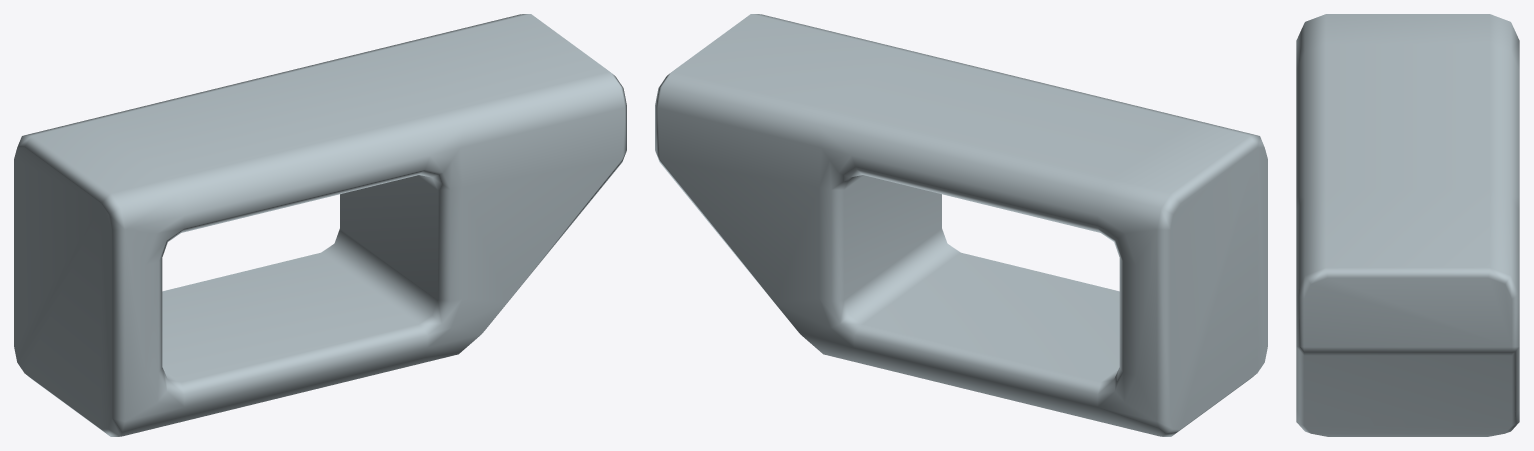
File: beam_005.fbx
3 views of the same model, side by side, from view 1: azimuth 30°, elevation 25°; view 2: azimuth 150°, elevation 25°; view 3: azimuth 270°, elevation 25° (orthographic). The views are drawn at different scales.
Parts seen in each view (by area): view 1: beam_005; view 2: beam_005; view 3: beam_005.
Boxes of the visible parts, <box> form: beam_005: <box>14,14,626,436</box>; beam_005: <box>655,14,1267,436</box>; beam_005: <box>1296,14,1519,436</box>.
Size of the model in its own units: 933 by 337 by 423.
